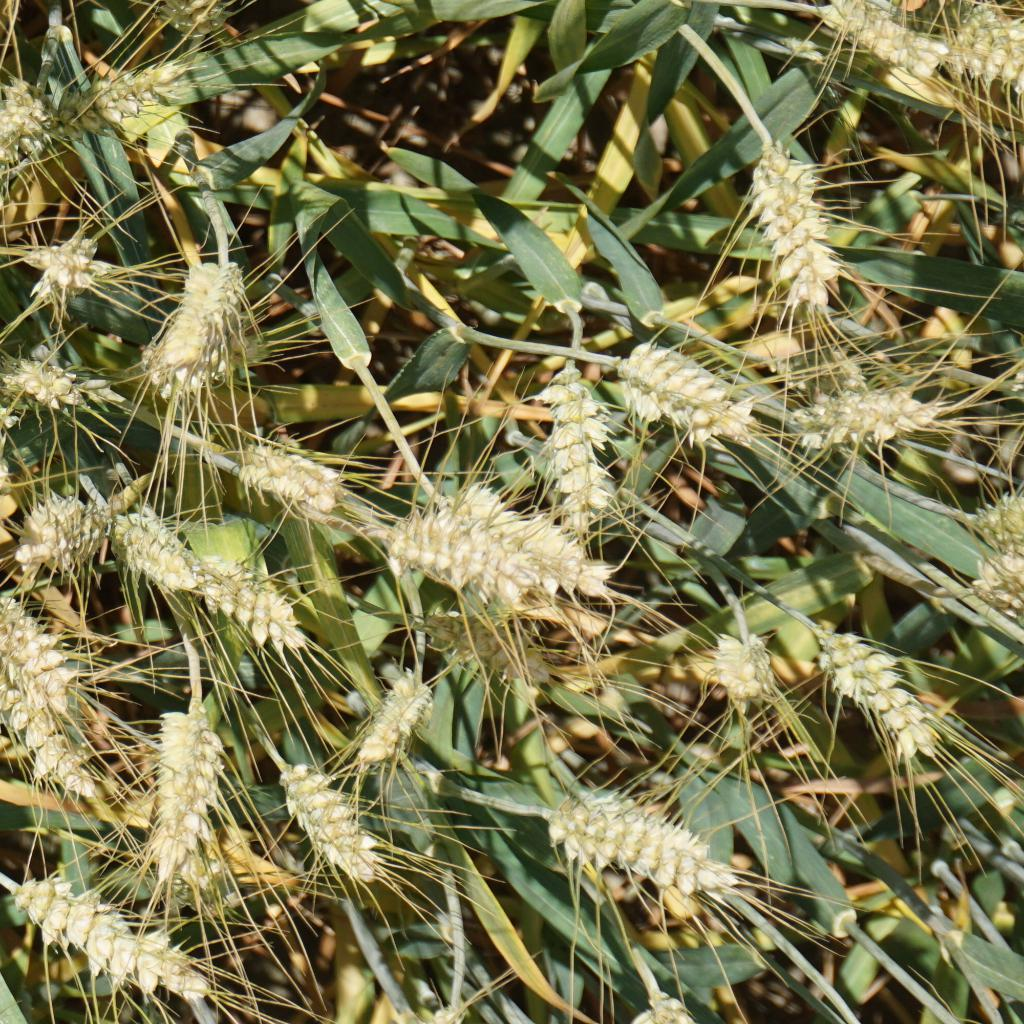0-0: (424, 481, 620, 616), (11, 867, 202, 1000), (541, 781, 738, 899), (141, 239, 275, 405), (815, 617, 944, 765), (613, 337, 758, 458), (137, 254, 247, 409), (754, 136, 847, 316), (270, 756, 387, 892), (534, 346, 618, 525), (136, 698, 226, 862), (46, 47, 207, 138), (788, 376, 959, 457), (416, 605, 562, 697), (221, 429, 353, 521), (345, 660, 443, 780), (180, 556, 307, 648), (387, 512, 522, 595), (0, 641, 75, 785), (820, 0, 944, 71), (0, 589, 79, 690), (753, 335, 877, 396), (0, 354, 105, 425), (110, 510, 193, 594), (20, 236, 105, 313), (707, 628, 780, 712), (950, 0, 1024, 81), (15, 495, 101, 564), (0, 66, 52, 179), (114, 0, 223, 44), (163, 847, 240, 904), (963, 489, 1024, 554), (975, 549, 1024, 614)
